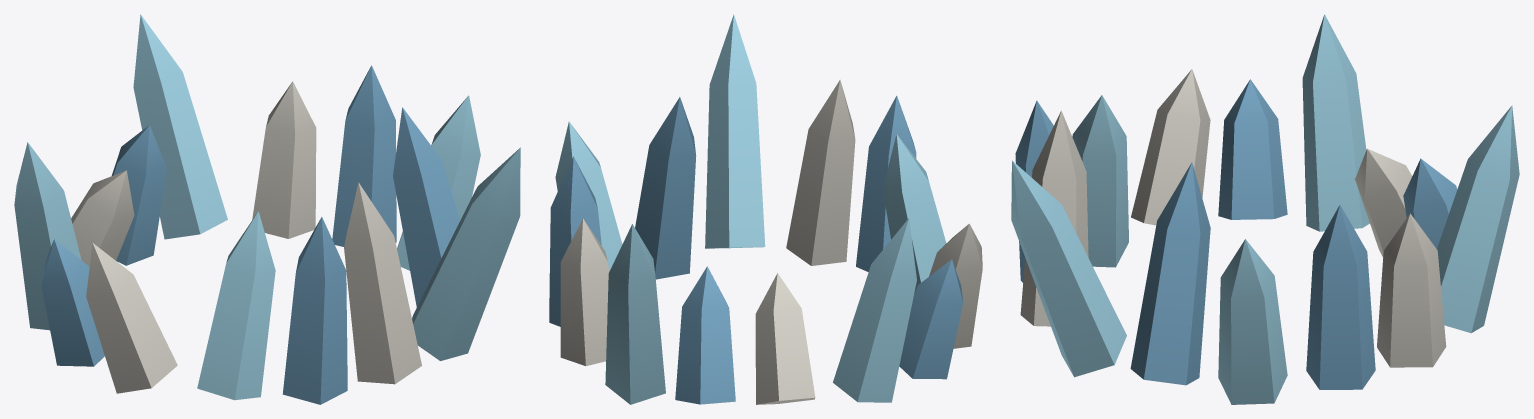
File: 400_cristaux_glace.fbx
The picture shows the model from 3 angles, left to right: view 1: azimuth 30°, elevation 25°; view 2: azimuth 150°, elevation 25°; view 3: azimuth 270°, elevation 25°; orthographic projection. The views are drawn at different scales.
Parts seen in each view (by area): view 1: Cristaux; view 2: Cristaux; view 3: Cristaux.
Boxes of the visible parts, left/top/right/bottom form: Cristaux: left=14, top=14, right=520, bottom=404; Cristaux: left=549, top=14, right=982, bottom=404; Cristaux: left=1011, top=14, right=1519, bottom=404.
Size of the model in its own units: 1.68 by 0.84 by 1.68.
1 material, 1 textured.
